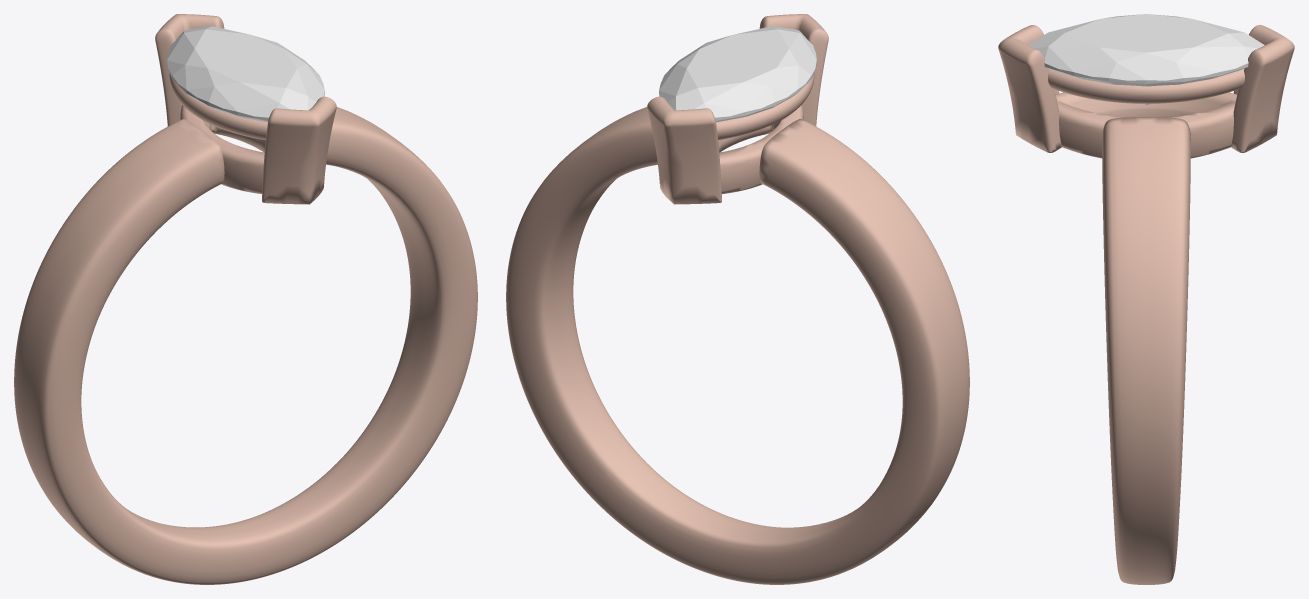
Rendered from diamond-marquise-rosegold-protectededges2prong-straighttaperedband-nosidestones.glb.
3 renders of one model, left to right at view 1: azimuth 30°, elevation 25°; view 2: azimuth 150°, elevation 25°; view 3: azimuth 270°, elevation 25°, orthographic. The views are drawn at different scales.
Parts seen in each view (by area): view 1: metal, stone; view 2: metal, stone; view 3: metal, stone.
Part boxes in pixels (<box>): metal: <box>14,14,477,584</box>; stone: <box>167,26,324,122</box>; metal: <box>506,14,969,584</box>; stone: <box>659,26,816,122</box>; metal: <box>998,25,1294,584</box>; stone: <box>1028,14,1264,104</box>.
Bounding box in the file's own units: 20.48 × 22.93 × 11.69.
